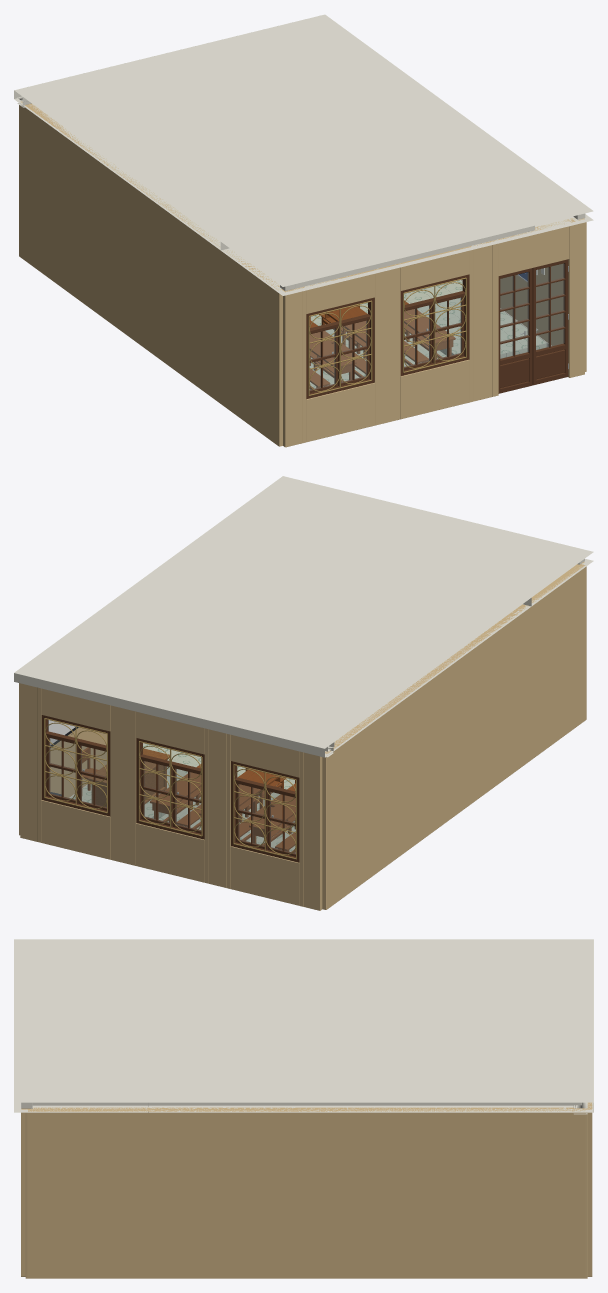
File: classroom_12a1_modular_v02.glb
The picture shows the model from 3 angles, top to bottom: view 1: azimuth 30°, elevation 25°; view 2: azimuth 150°, elevation 25°; view 3: azimuth 270°, elevation 25°; orthographic projection. The views are drawn at different scales.
Visible parts, largest first — view 1: KA12A1_Source_Ceiling_v02, KAClass_Wall_Plaster (×6), KAClass_WindowBay_Sill_Wall (×2), KAClass_WindowBay_Header_Wall (×2), KAClass_DoorBay_Header, KAClass_Desk_L_1_1 (×2), KAClass_WindowBay_Jamb (×2), KAClass_WindowBay_Jamb.001 (×2), KAClass_DoorBay_Jamb, KAClass_DoorBay_Jamb.001, KA12A1_Green_Floral_Floor_v02, KAClass_Door_Right_Lower_Panel (+3 smaller); view 2: KA12A1_Source_Ceiling_v02, KAClass_Wall_Plaster (×6), KAClass_WindowBay_Sill_Wall (×3), KAClass_WindowBay_Header_Wall (×3), KAClass_WindowBay_Jamb.001 (×3), KAClass_WindowBay_Jamb (×3), KAClass_Desk_L_1_1 (×2), KA12A1_Green_Floral_Floor_v02; view 3: KA12A1_Source_Ceiling_v02, KAClass_Wall_Plaster (×3).
Part boxes in pixels (x1,y1,x2,y2): KA12A1_Source_Ceiling_v02: (14, 14, 593, 295); KAClass_Wall_Plaster (×6): (19, 101, 586, 447); KAClass_WindowBay_Sill_Wall (×2): (306, 359, 469, 442); KAClass_WindowBay_Header_Wall (×2): (306, 246, 469, 313); KAClass_DoorBay_Header: (498, 220, 569, 275); KAClass_Desk_L_1_1 (×2): (309, 309, 455, 381); KAClass_WindowBay_Jamb (×2): (374, 245, 473, 425); KAClass_WindowBay_Jamb.001 (×2): (301, 263, 400, 443); KAClass_DoorBay_Jamb: (566, 218, 575, 377); KAClass_DoorBay_Jamb.001: (491, 239, 498, 396); KA12A1_Green_Floral_Floor_v02: (309, 302, 446, 388); KAClass_Door_Right_Lower_Panel: (500, 358, 529, 387); KA12A1_Source_Ceiling_v02: (14, 476, 593, 757); KAClass_Wall_Plaster (×6): (19, 564, 586, 910); KAClass_WindowBay_Sill_Wall (×3): (41, 800, 299, 905); KAClass_WindowBay_Header_Wall (×3): (41, 688, 299, 777); KAClass_WindowBay_Jamb.001 (×3): (37, 687, 230, 888); KAClass_WindowBay_Jamb (×3): (110, 705, 303, 906); KAClass_Desk_L_1_1 (×2): (150, 772, 295, 845); KA12A1_Green_Floral_Floor_v02: (159, 766, 295, 851); KA12A1_Source_Ceiling_v02: (14, 939, 593, 1114); KAClass_Wall_Plaster (×3): (21, 1102, 592, 1278).
Size of the model in its own units: 7.24 by 3.65 by 10.84.
127 materials, 28 textured.
